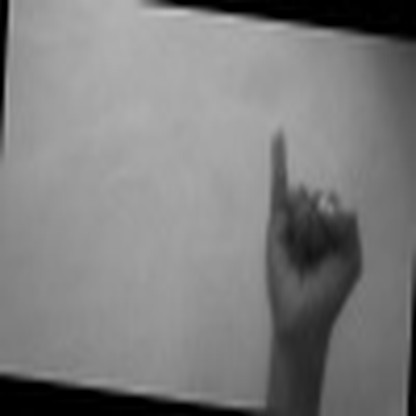i: (252, 92, 372, 347)
